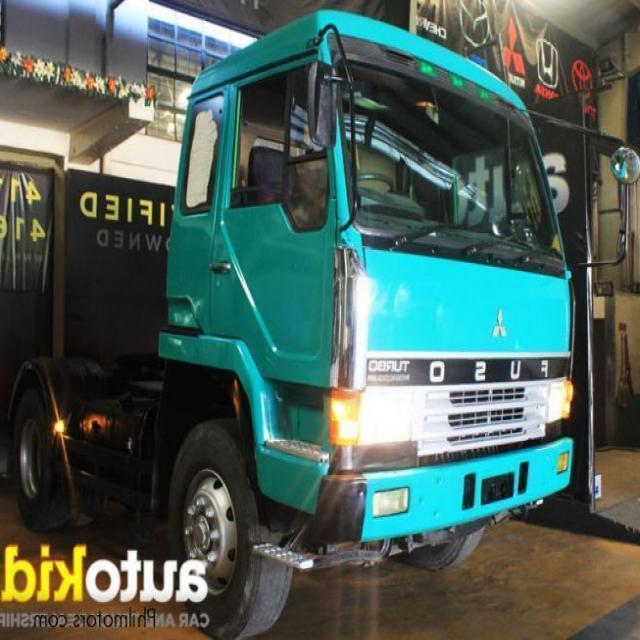truck: (1, 8, 576, 639)
